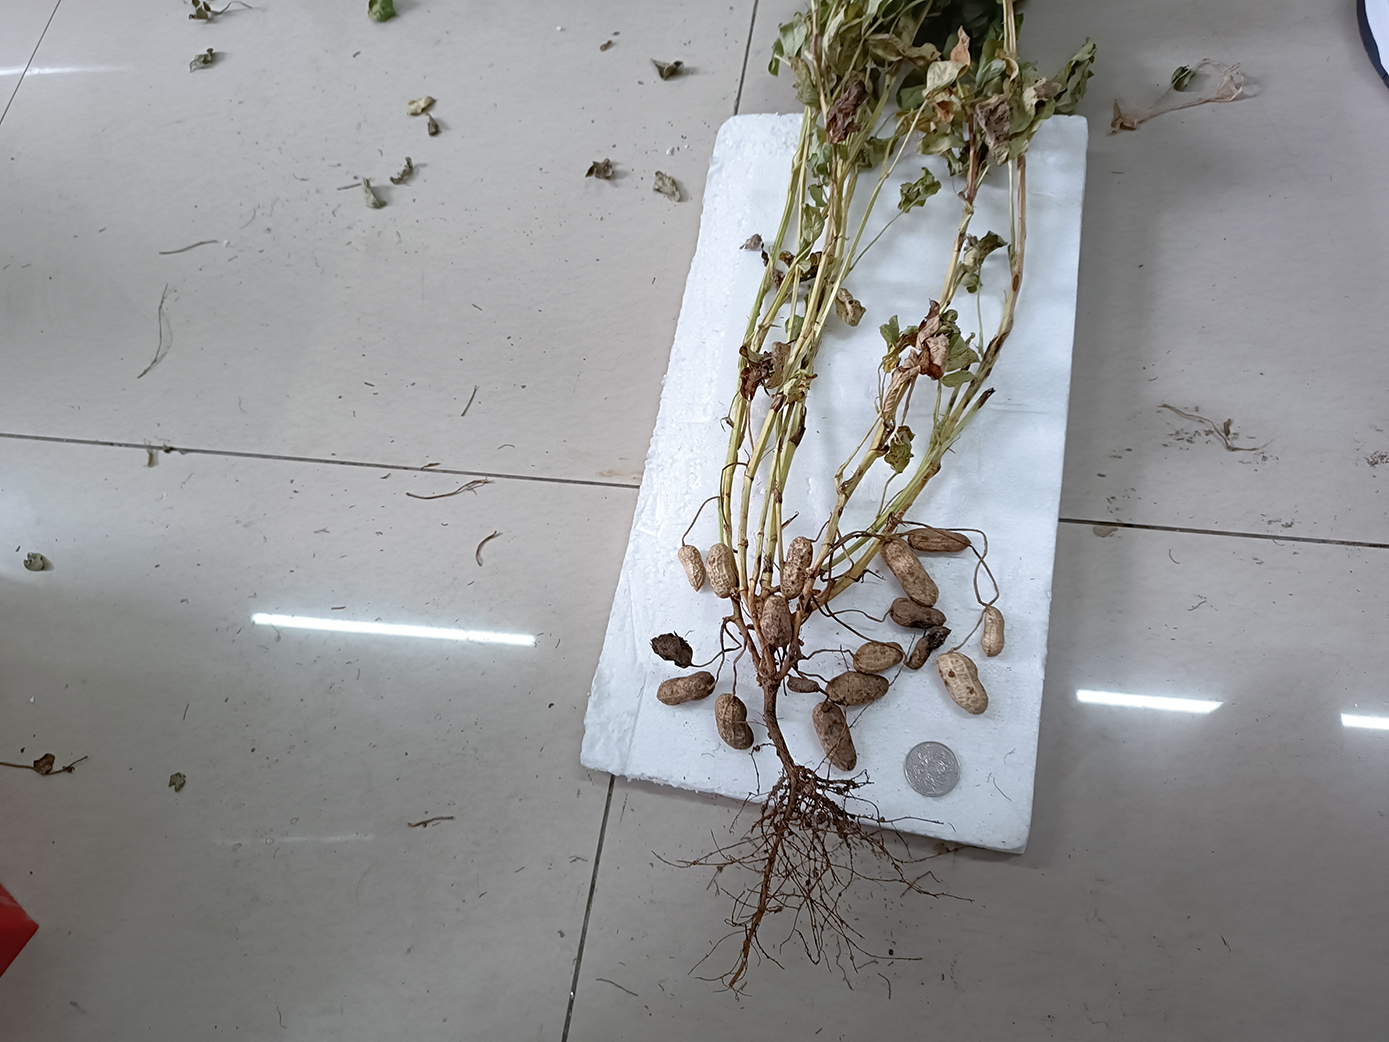h: (881, 536, 939, 607), (936, 652, 989, 715), (714, 693, 755, 750), (706, 542, 739, 599), (760, 595, 792, 647), (853, 641, 904, 674), (979, 603, 1005, 658), (678, 544, 705, 592)
l: (812, 702, 857, 771), (656, 670, 716, 706), (780, 536, 814, 599), (825, 671, 889, 704), (906, 626, 952, 671), (890, 598, 947, 628), (649, 630, 694, 669), (907, 529, 972, 552), (787, 676, 818, 693)
